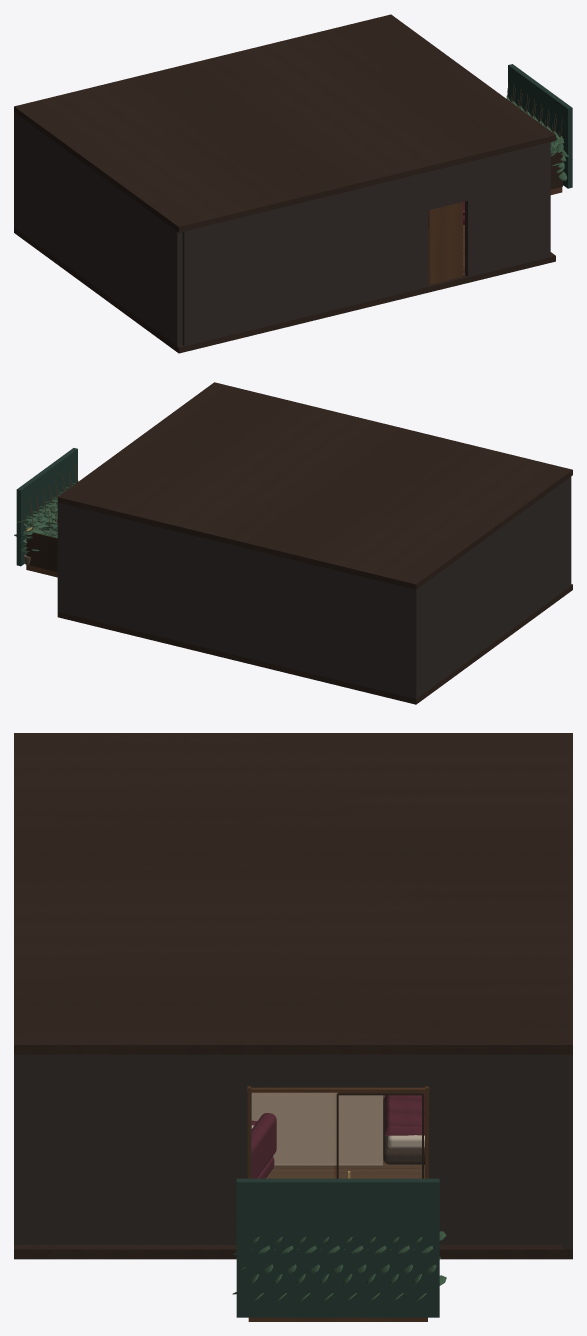
The model's file is lisa-room.glb.
The picture shows the model from 3 angles, top to bottom: view 1: azimuth 30°, elevation 25°; view 2: azimuth 150°, elevation 25°; view 3: azimuth 270°, elevation 25°; orthographic projection. The views are drawn at different scales.
Visible parts, largest first — view 1: ceiling, detail (×5), floor_substrate, room (×2); view 2: detail (×3), ceiling, floor_substrate, room (×2), balcony; view 3: ceiling, right_wall_balcony_aperture, detail (×6), room (×3), floor_substrate, bed, sofa.
Boxes of the visible parts, x1=… form: ceiling: x1=14, y1=14, x2=555, y2=232; detail (×5): x1=15, y1=64, x2=572, y2=346; floor_substrate: x1=14, y1=227, x2=555, y2=353; room (×2): x1=428, y1=95, x2=568, y2=284; detail (×3): x1=16, y1=448, x2=571, y2=698; ceiling: x1=57, y1=382, x2=572, y2=589; floor_substrate: x1=57, y1=584, x2=572, y2=704; room (×2): x1=14, y1=464, x2=78, y2=553; balcony: x1=26, y1=520, x2=57, y2=571; ceiling: x1=14, y1=733, x2=572, y2=1054; right_wall_balcony_aperture: x1=24, y1=1054, x2=562, y2=1244; detail (×6): x1=14, y1=1054, x2=572, y2=1321; room (×3): x1=232, y1=1054, x2=560, y2=1301; floor_substrate: x1=14, y1=1245, x2=572, y2=1259; bed: x1=385, y1=1092, x2=424, y2=1135; sofa: x1=251, y1=1113, x2=276, y2=1178.
Bounding box in the file's own units: 15.23 × 3.96 × 9.36.
53 materials, 20 textured.
